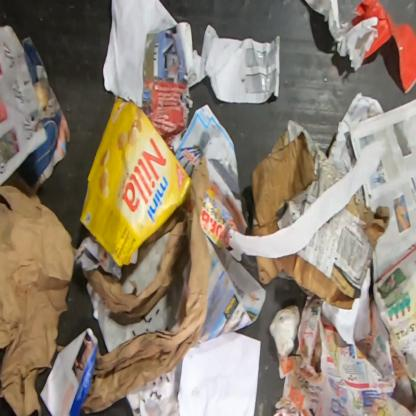cardboard: (78, 92, 193, 268), (228, 137, 388, 261), (255, 188, 389, 310), (250, 118, 346, 236)
rigid_plastic: (351, 0, 415, 95)
